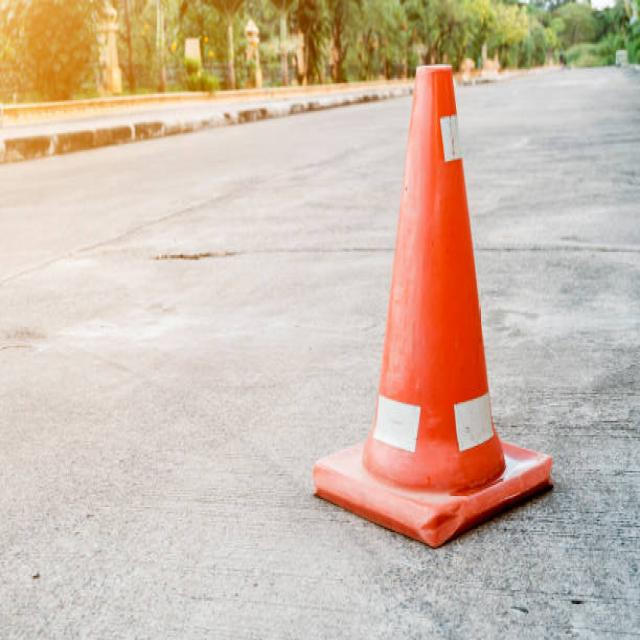Traffic Cone: (285, 5, 597, 600)
